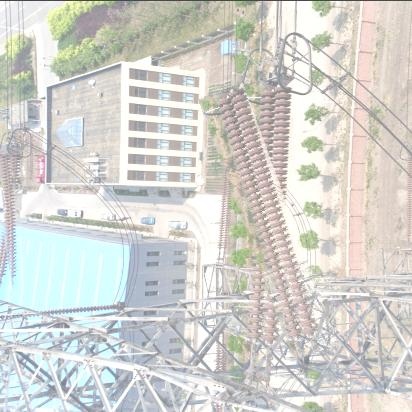insulator: (222, 82, 316, 361), (1, 153, 27, 290)
